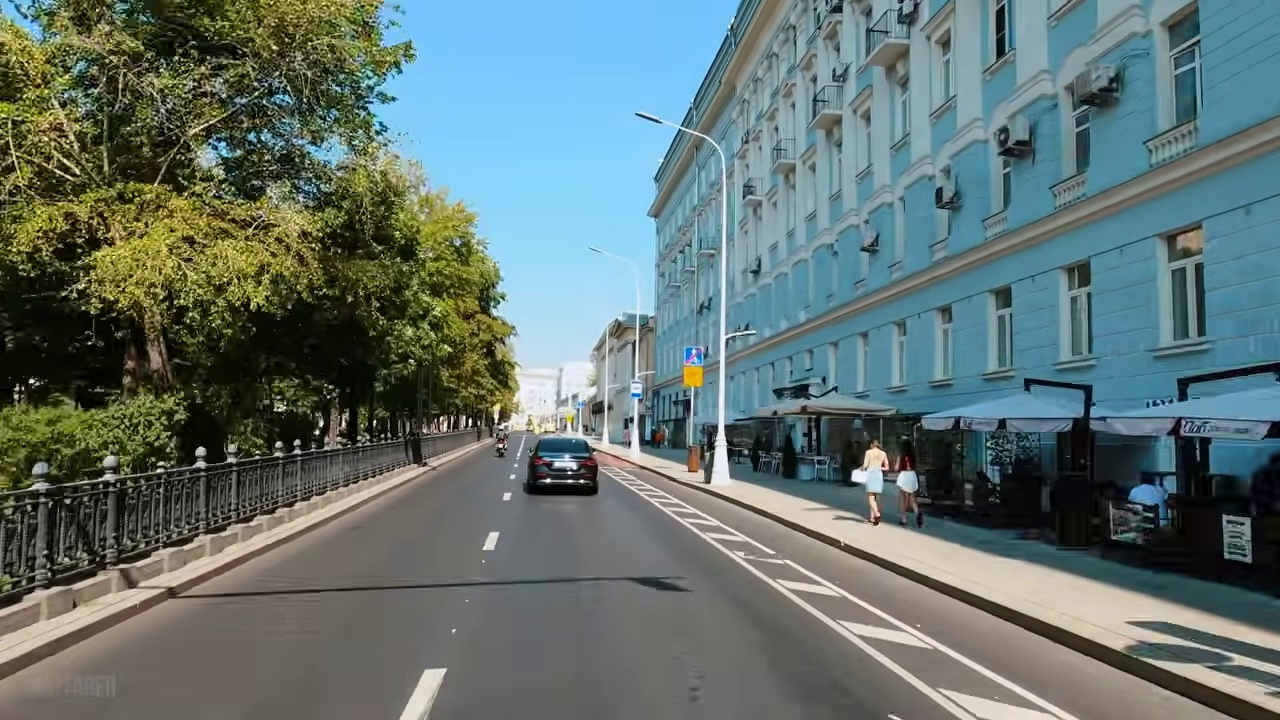apagada: (634, 100, 666, 135)
